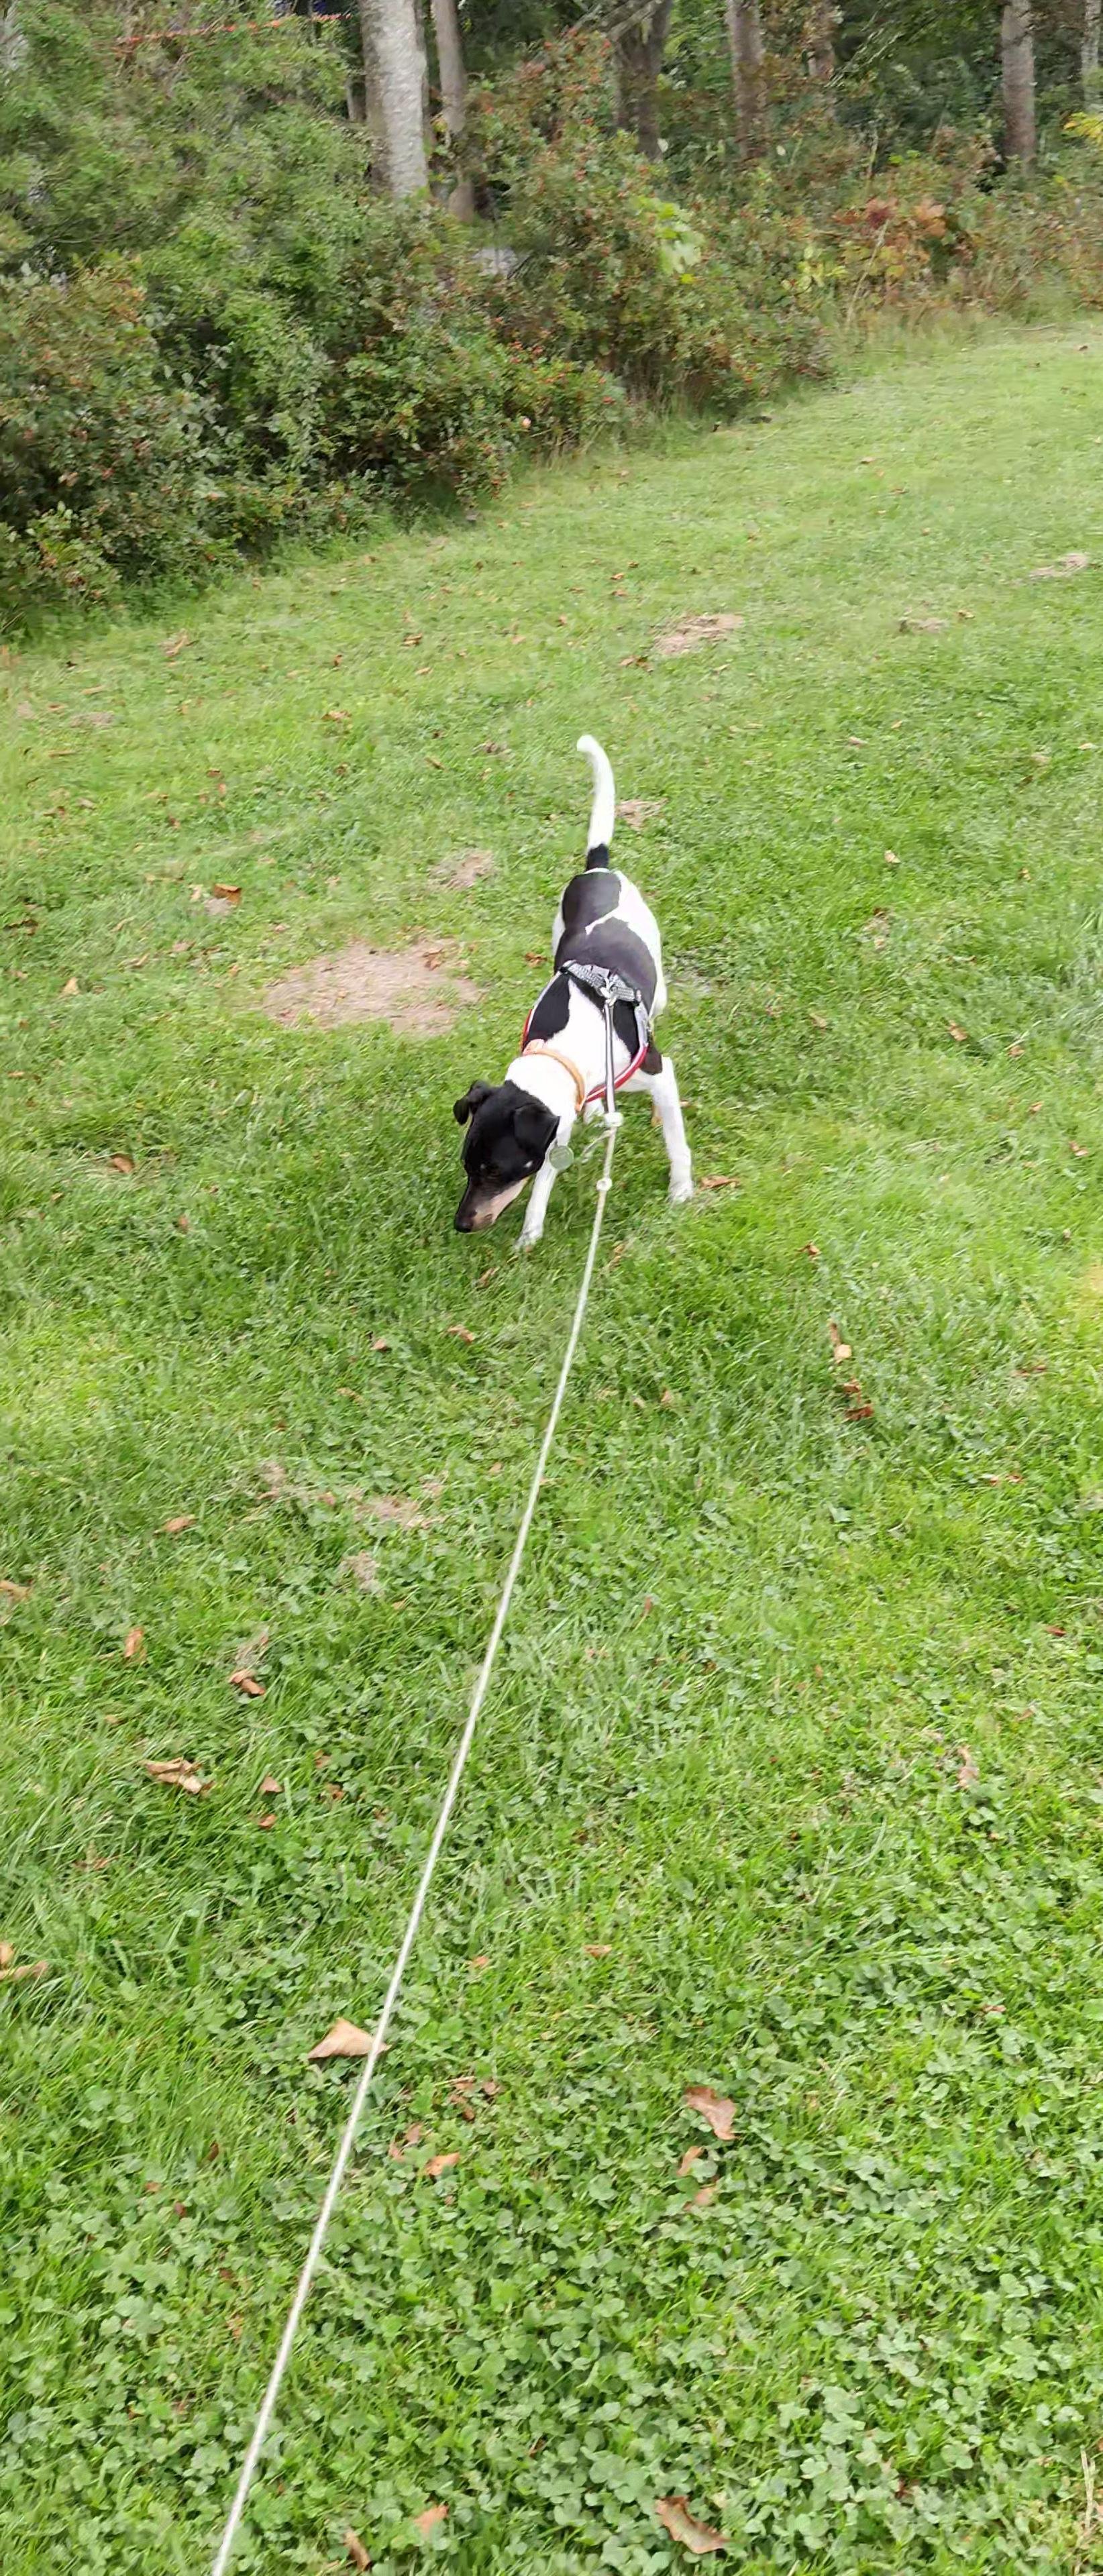Dog: (439, 728, 702, 1267)
